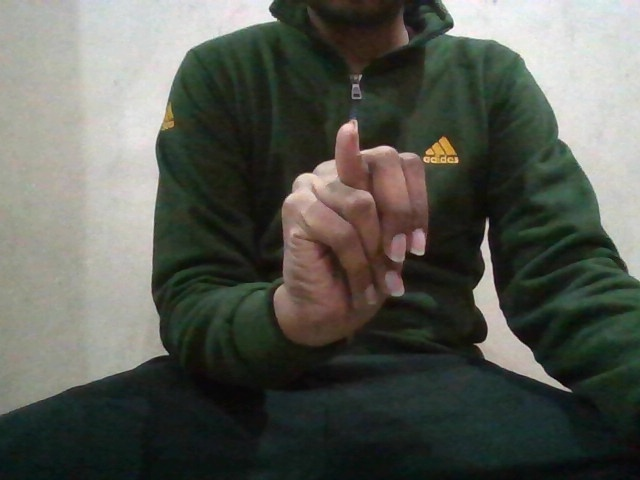N: (278, 118, 428, 336)
